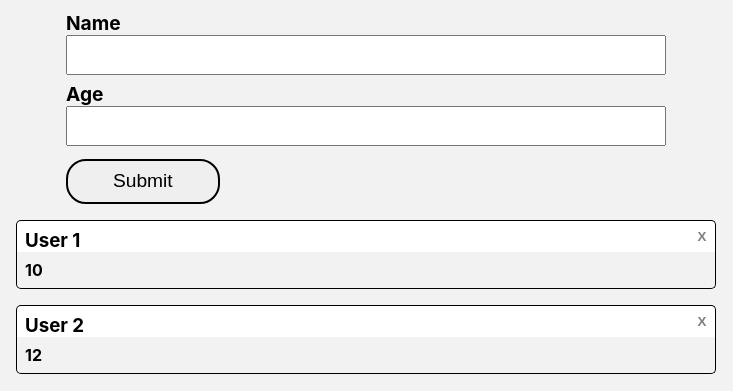
it: Test App › works Remove User flow
Click the button with class "close": [702, 236] box [692, 221, 712, 252]
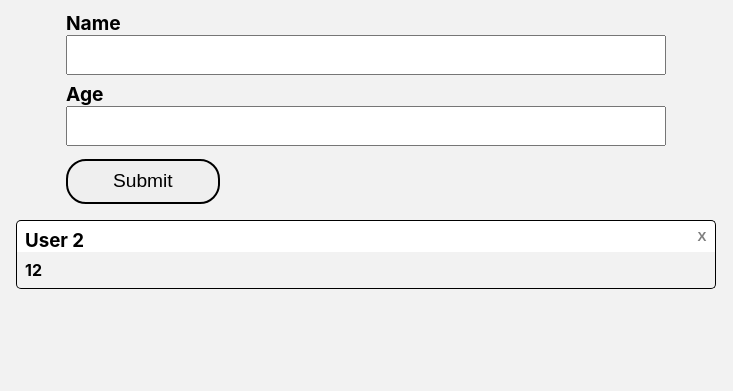
Expected: the heading "User 2" is shown, [25, 229, 84, 252]
Expected: the heading "User 1" is gone
Expected: the text "10" is gone
